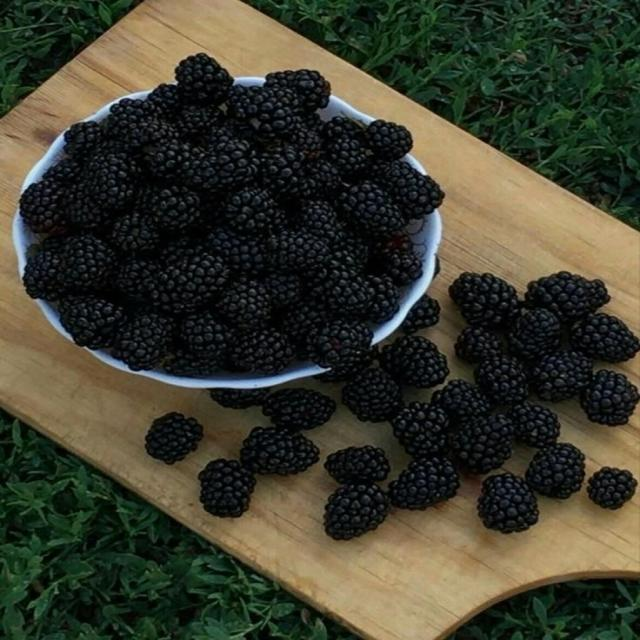raspberry: (150, 250, 229, 312), (177, 139, 258, 190), (374, 162, 443, 220), (324, 481, 389, 540), (388, 456, 459, 510), (337, 181, 403, 239), (450, 272, 518, 327), (478, 472, 537, 534), (380, 335, 449, 388), (59, 295, 125, 349), (241, 427, 318, 473), (228, 85, 298, 135), (454, 414, 513, 473), (113, 313, 172, 371), (570, 313, 639, 362), (198, 458, 255, 517), (390, 401, 449, 457), (580, 370, 639, 426), (525, 271, 590, 321), (525, 443, 584, 498), (342, 368, 403, 421), (263, 387, 336, 431), (530, 349, 591, 401), (60, 234, 117, 289), (308, 320, 372, 368), (229, 327, 293, 374), (318, 263, 372, 318), (261, 145, 315, 200), (145, 412, 203, 463), (176, 53, 232, 105), (85, 152, 136, 208), (224, 187, 283, 234), (204, 227, 264, 273), (265, 69, 330, 111), (105, 99, 164, 145), (508, 310, 560, 361), (217, 278, 270, 328), (283, 301, 327, 360), (267, 231, 328, 273), (324, 445, 390, 483), (20, 178, 65, 233), (475, 355, 526, 403), (431, 380, 491, 420), (508, 401, 559, 448), (147, 185, 199, 230), (180, 311, 232, 355), (297, 201, 343, 248), (110, 210, 159, 253), (588, 467, 637, 509), (23, 249, 63, 300), (214, 139, 257, 186), (68, 183, 110, 230), (364, 120, 412, 160), (327, 134, 368, 180), (144, 138, 190, 177), (177, 105, 223, 143), (116, 259, 157, 301), (456, 327, 501, 363), (302, 159, 341, 198), (401, 294, 439, 333), (263, 273, 303, 310), (365, 276, 397, 322), (289, 113, 322, 157), (64, 122, 102, 159), (383, 250, 422, 285), (166, 350, 218, 376), (210, 387, 270, 408), (332, 234, 368, 267), (146, 83, 181, 115), (321, 116, 363, 141), (43, 158, 81, 185), (588, 280, 610, 312)
